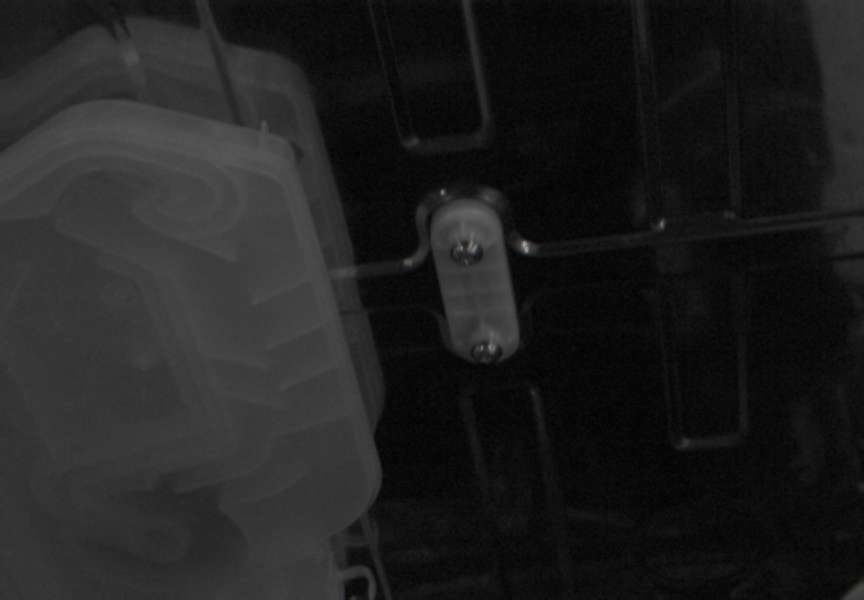screw: (450, 240, 483, 266), (471, 341, 503, 365)
